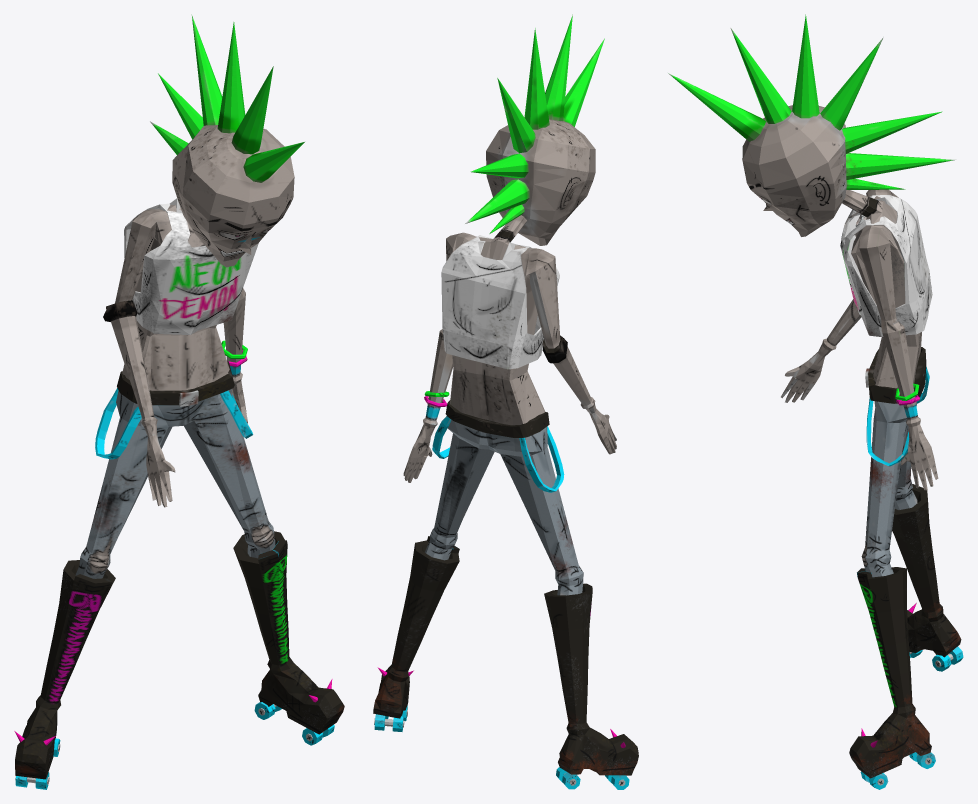
The model's file is punkAnimation_000128.obj.
3 renders of one model, left to right at view 1: azimuth 30°, elevation 25°; view 2: azimuth 150°, elevation 25°; view 3: azimuth 270°, elevation 25°, orthographic. The views are drawn at different scales.
Parts seen in each view (by area): view 1: Cube.004_Cube.003; view 2: Cube.004_Cube.003; view 3: Cube.004_Cube.003.
Boxes of the visible parts, x1=… form: Cube.004_Cube.003: x1=14, y1=14, x2=344, y2=789; Cube.004_Cube.003: x1=373, y1=14, x2=638, y2=789; Cube.004_Cube.003: x1=668, y1=14, x2=963, y2=789.
Size of the model in its own units: 3.04 by 7.31 by 2.74.
